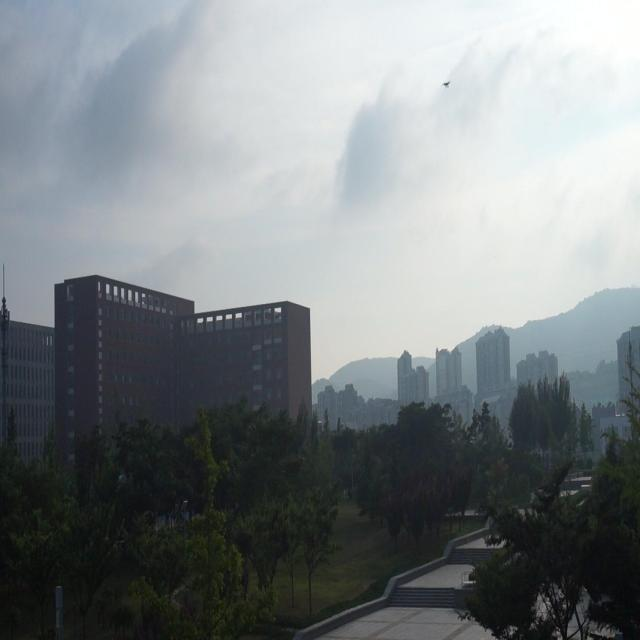drone: (441, 77, 452, 92)
